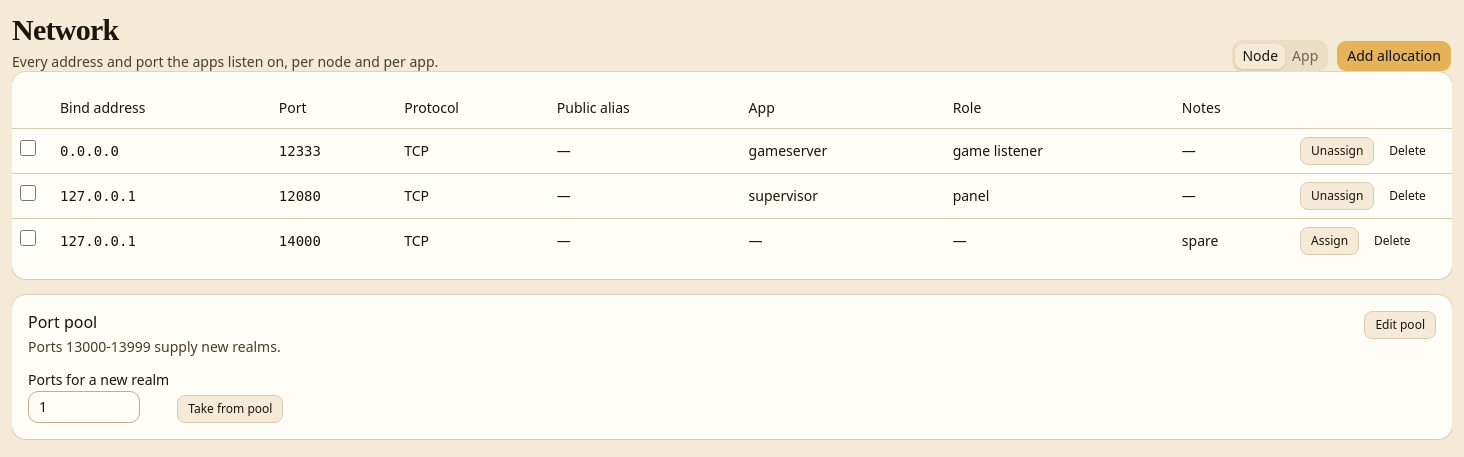
Test: the network page › shows the app tab with that app's allocations and its live listener
Click the tab "App" at [1305, 56], box 1285,44 -> 1325,68
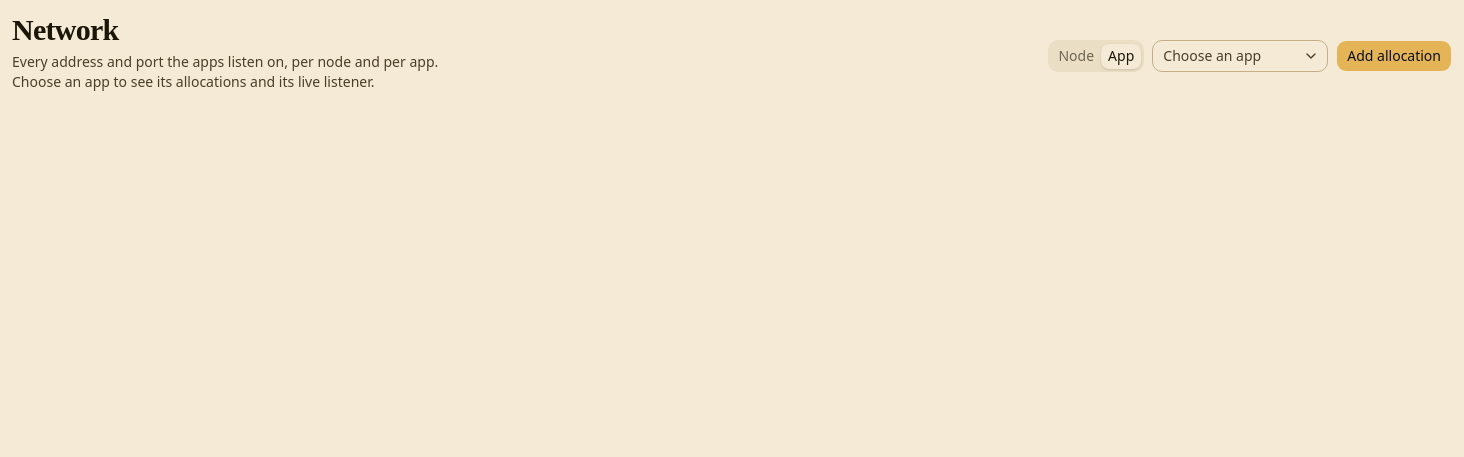
Result: the button with aria-label "App whose network is shown" is shown
Press the mouse on the button with aria-label "App whose network is shown" at [1240, 56], box 1152,40 -> 1328,72
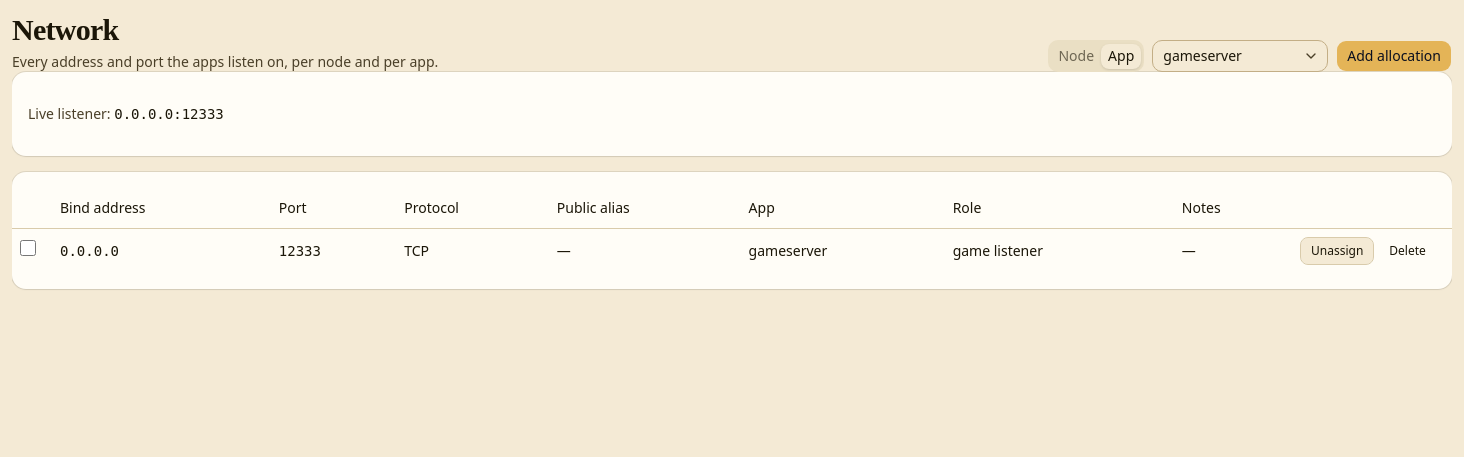
Result: the text "Live listener:" is shown at 28,104 -> 111,123
Result: the text "0.0.0.0:12333" is shown at 114,106 -> 224,122
